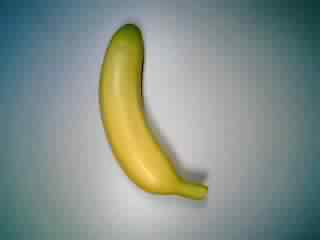banana: (94, 21, 219, 207)
